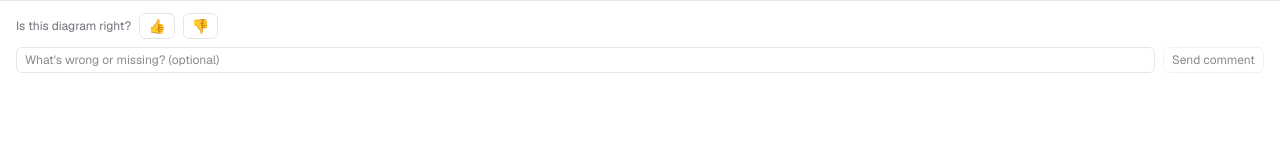
RateDiagram › includes a comment typed before rating
The width and height of the screenshot is (1280, 160).
Type "missing fetcher" into the field named "Comment (optional)" at (585, 60), box top-left (16, 47), bottom-right (1155, 73)
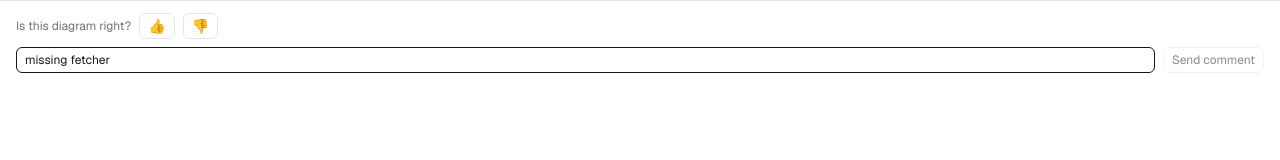
Click the button named "Rate helpful" at (157, 26), box top-left (139, 13), bottom-right (175, 39)
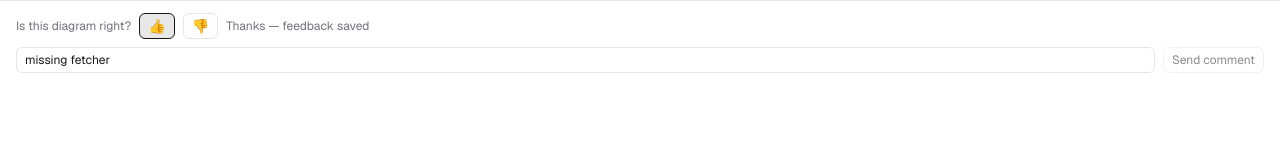
Expected: the text "Thanks — feedback saved" is shown, top-left (226, 18), bottom-right (369, 34)
